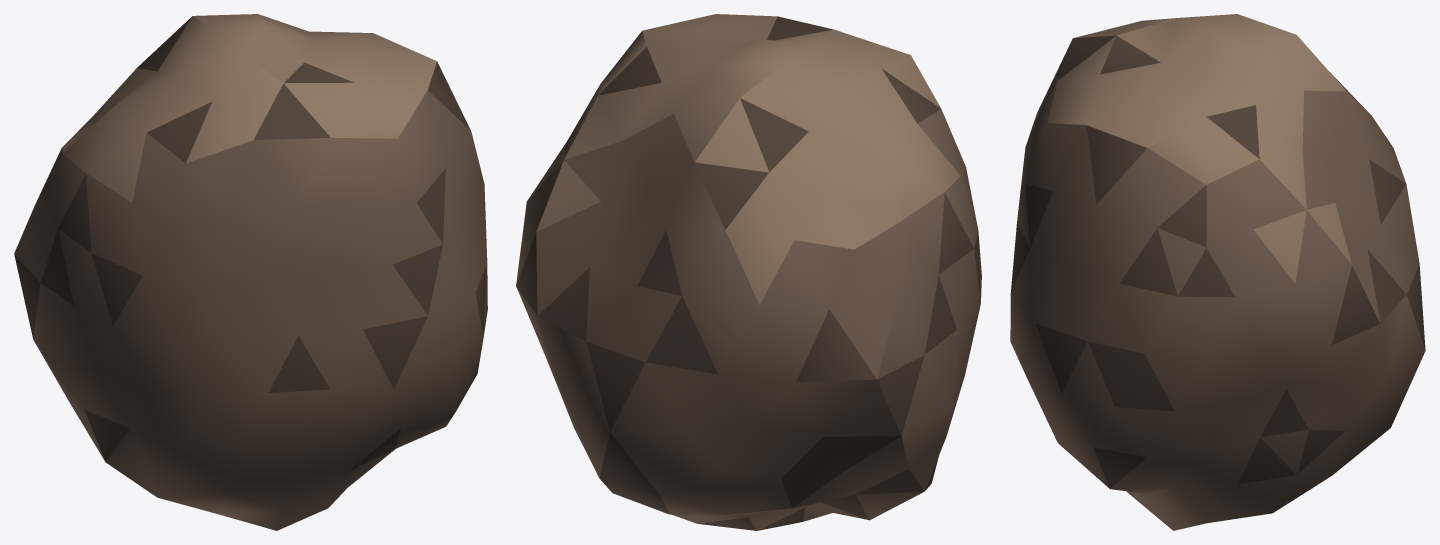
The model's file is asteroid_b.glb.
The picture shows the model from 3 angles, left to right: view 1: azimuth 30°, elevation 25°; view 2: azimuth 150°, elevation 25°; view 3: azimuth 270°, elevation 25°; orthographic projection. The views are drawn at different scales.
Visible parts, largest first — view 1: asteroid_b; view 2: asteroid_b; view 3: asteroid_b.
Boxes of the visible parts, bbox=[...] form: asteroid_b: bbox=[14, 14, 487, 530]; asteroid_b: bbox=[516, 14, 981, 530]; asteroid_b: bbox=[1010, 14, 1425, 530].
Bounding box in the file's own units: 2.71 × 3.1 × 2.45.
Materials: 1 (1 with a texture image).
